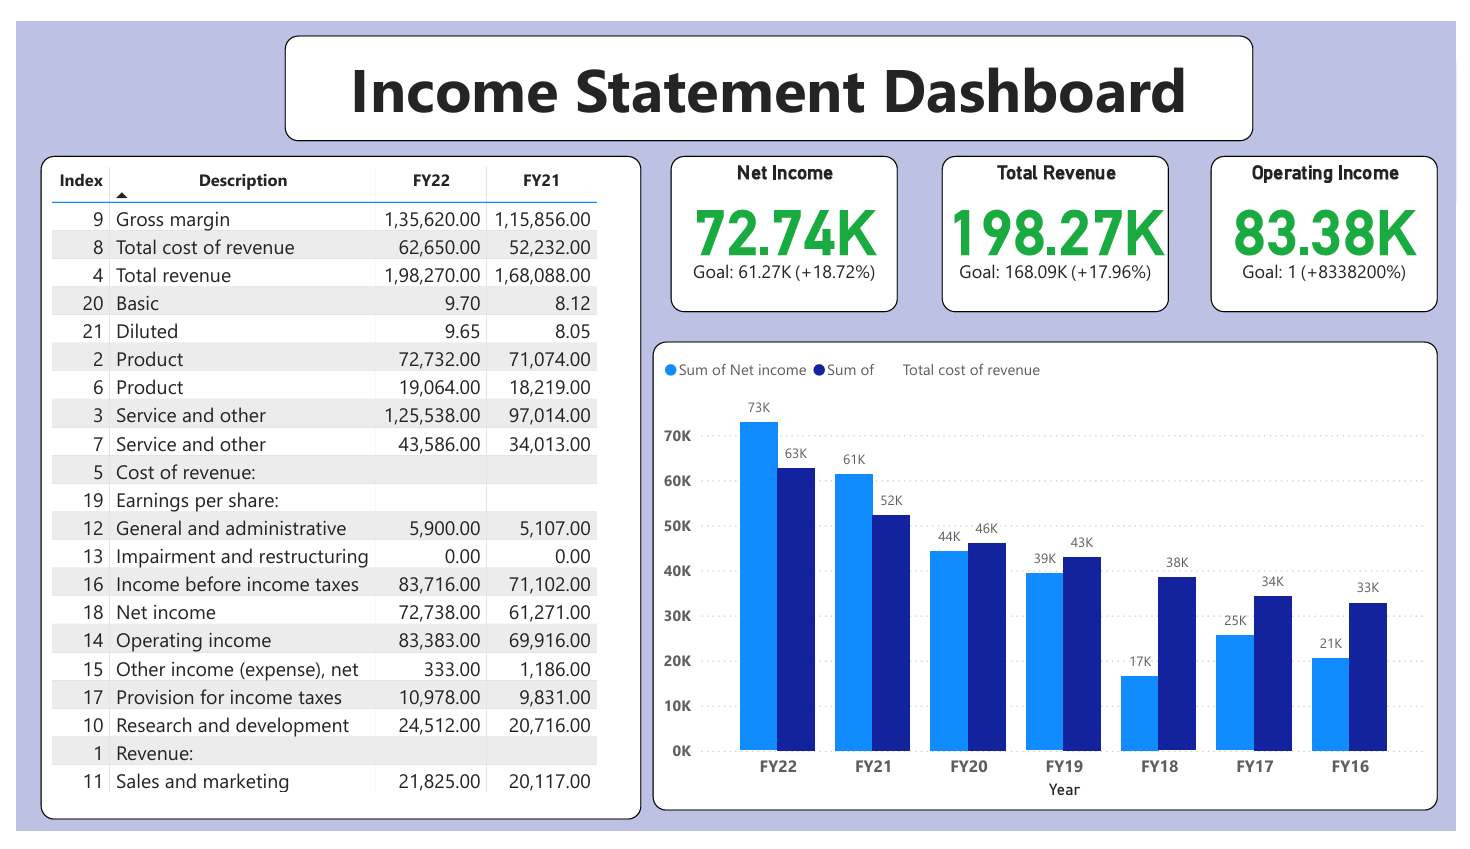

The page's visual inventory and layout, read from the dashboard file:
{"tool":"powerbi","page":{"name":"Income Statement Dashboard","canvas":[1280,720],"ordinal":0},"visuals":[{"type":"tableEx","fields":{"Values":["Yearly Income Statements.Index","Yearly Income Statements.Description","Yearly Income Statements.FY22","Yearly Income Statements.FY21"]},"box":[20.8,118.6,534.4,590.6],"z":0},{"type":"kpi","title":"Net Income","fields":{"Indicator":["Sum(Net Income.FY22)"],"Goal":["Sum(Net Income.FY21)"],"TrendLine":["Net Income.Description"]},"box":[580.8,118.6,201.8,139.4],"z":1000},{"type":"kpi","title":"Total Revenue","fields":{"TrendLine":["Total Revenue.Description"],"Goal":["Sum(Total Revenue.FY21)"],"Indicator":["Sum(Total Revenue.FY22)"]},"box":[821.7,118.6,201.8,139.4],"z":2000},{"type":"kpi","title":"Operating Income","fields":{"TrendLine":["Operating Income.Description"],"Indicator":["Sum(Operating Income.FY22)"],"Goal":["CountNonNull(Operating Income.FY21)"]},"box":[1061.4,118.6,201.8,139.4],"z":3000},{"type":"clusteredColumnChart","fields":{"Category":["Table.Description"],"Y":["Sum(Table.Net income)","Sum(Table.      Total cost of revenue)"]},"box":[564.9,283.7,698.2,417],"z":4000},{"type":"textbox","box":[238.5,12.2,860.9,94.2],"z":5000}]}

Visuals, with their boxes in screenshot pixels (x1, y1, x2, y2), scaled from the page's 1280x720 canvas onto the 1470x849 screenshot:
tableEx - Yearly Income Statements.Index x Yearly Income Statements.Description: detection(24, 140, 638, 836)
"Net Income" kpi: detection(667, 140, 899, 304)
"Total Revenue" kpi: detection(944, 140, 1175, 304)
"Operating Income" kpi: detection(1219, 140, 1451, 304)
clusteredColumnChart - Table.Description x Sum(Table.Net income): detection(649, 335, 1451, 826)
textbox: detection(274, 14, 1263, 125)
